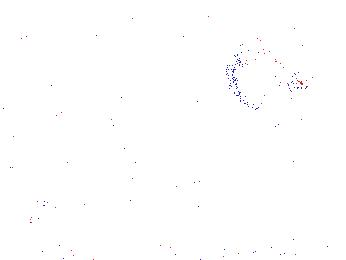flame jellyfish: (224, 47, 309, 111), (146, 150, 209, 224), (4, 165, 71, 220)
